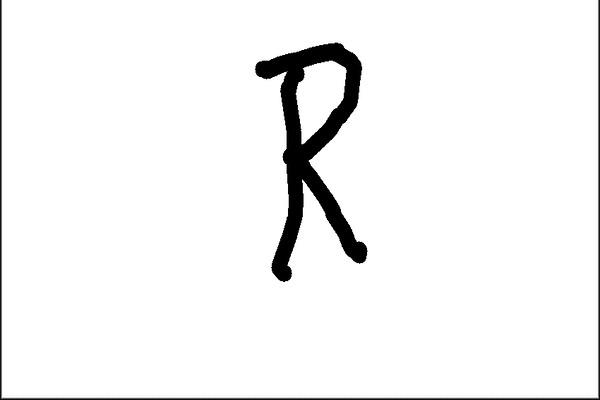R: (248, 36, 381, 278)
